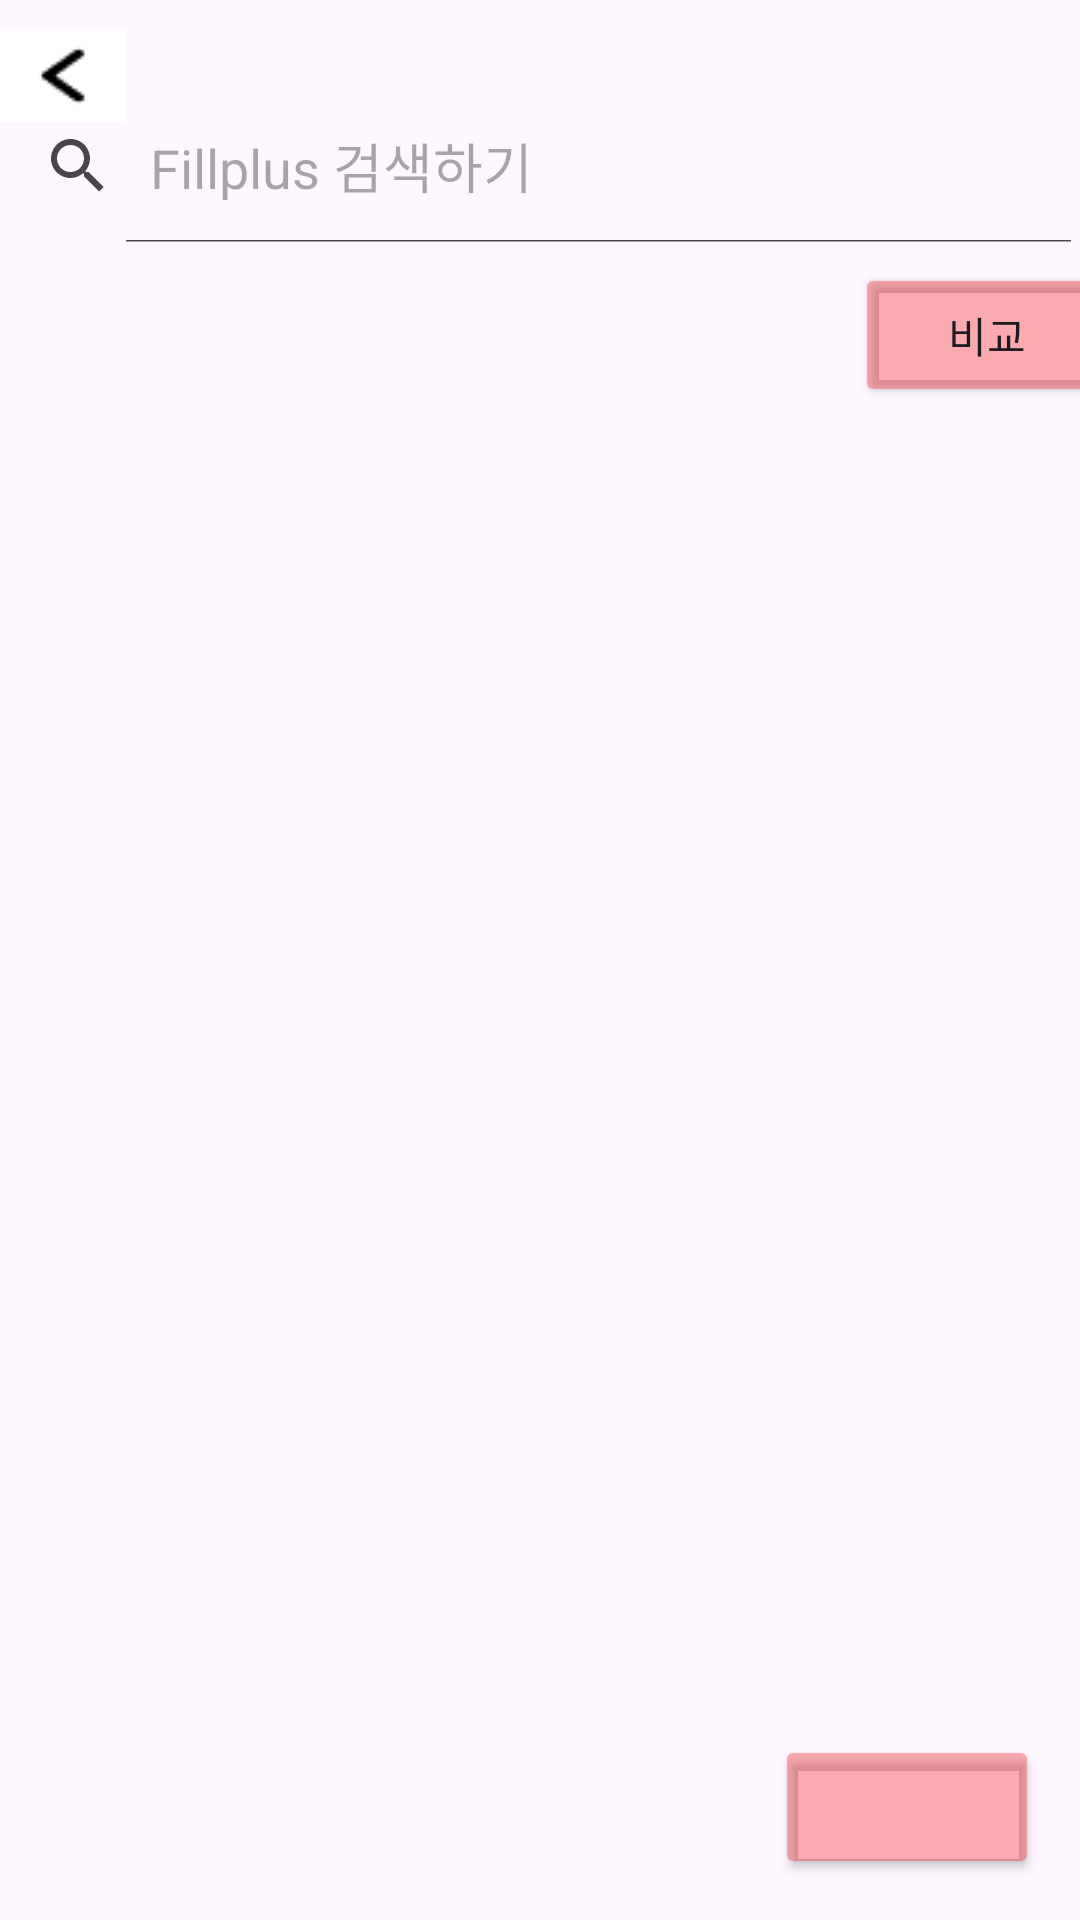

Point at icon controls on the screen. Image size 1080x1920, points as point (x, y).
뒤로가기: point (63, 76)
